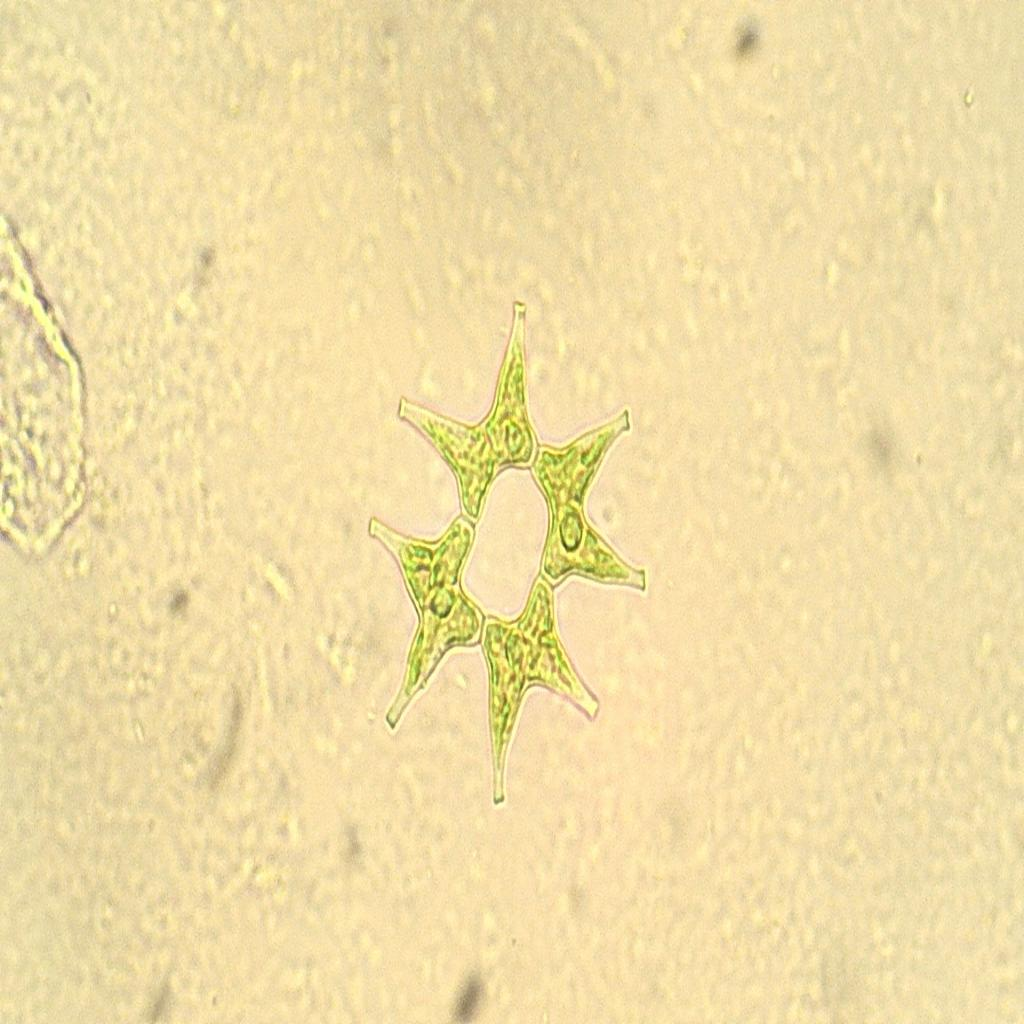Pediastrum_CO: (356, 288, 664, 826)
